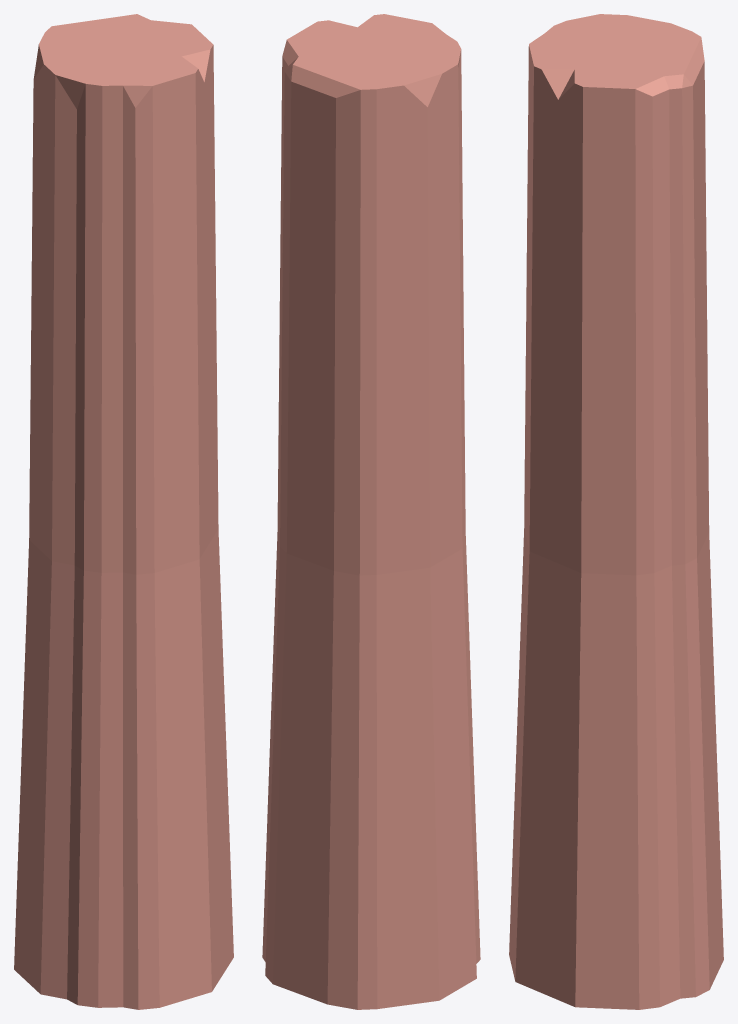
File: Cylinder_037_Vlad.fbx
3 views of the same model, side by side, from view 1: azimuth 30°, elevation 25°; view 2: azimuth 150°, elevation 25°; view 3: azimuth 270°, elevation 25° (orthographic).
Visible parts, largest first — view 1: Cylinder.037; view 2: Cylinder.037; view 3: Cylinder.037.
Boxes of the visible parts, x1,y1,x2,y2 form: Cylinder.037: [14, 14, 233, 1009]; Cylinder.037: [262, 14, 480, 1009]; Cylinder.037: [509, 14, 723, 1009].
Size of the model in its own units: 108 by 500 by 107.
